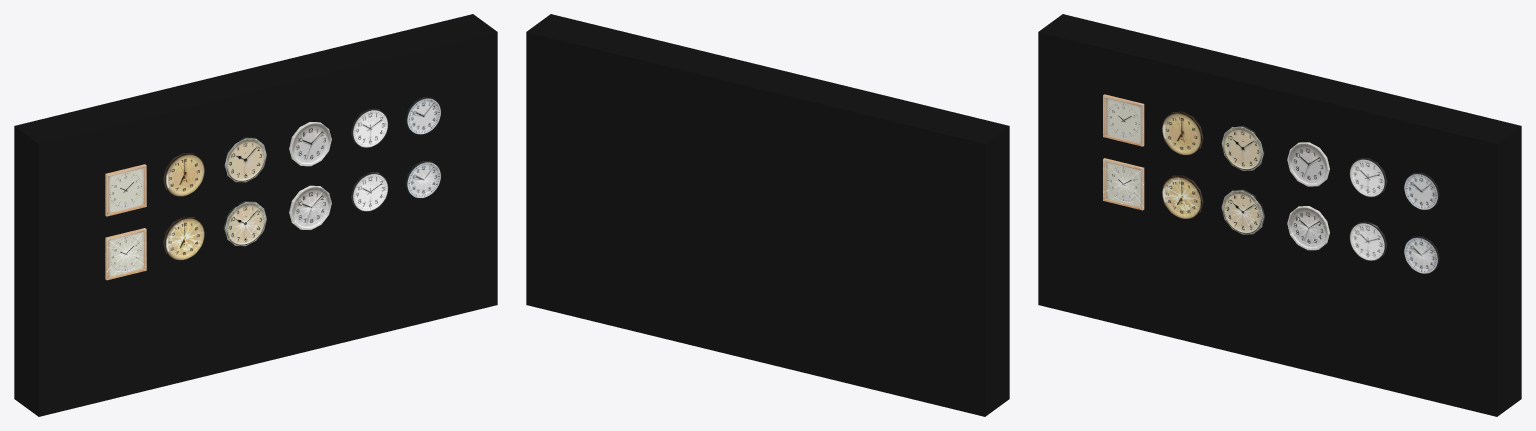
The model's file is wall-clocks.glb.
3 views of the same model, side by side, from view 1: azimuth 30°, elevation 25°; view 2: azimuth 150°, elevation 25°; view 3: azimuth 330°, elevation 25° (orthographic).
Parts seen in each view (by area): view 1: Wall.001_Wall_0, Wall Clock_Wall Clocks_0, Wall Clock.006_Clock Broken_0; view 2: Wall.001_Wall_0; view 3: Wall.001_Wall_0, Wall Clock_Wall Clocks_0, Wall Clock.006_Clock Broken_0.
Boxes of the visible parts, box(x1,y1,x2,y2) form: Wall.001_Wall_0: box(14, 14, 497, 416); Wall Clock_Wall Clocks_0: box(105, 97, 441, 216); Wall Clock.006_Clock Broken_0: box(105, 160, 441, 280); Wall.001_Wall_0: box(526, 14, 1009, 416); Wall.001_Wall_0: box(1038, 14, 1521, 416); Wall Clock_Wall Clocks_0: box(1103, 94, 1439, 210); Wall Clock.006_Clock Broken_0: box(1103, 158, 1439, 273).
Size of the model in its own units: 4.11 by 2.34 by 0.4064.
Materials: 3 (2 with a texture image).
